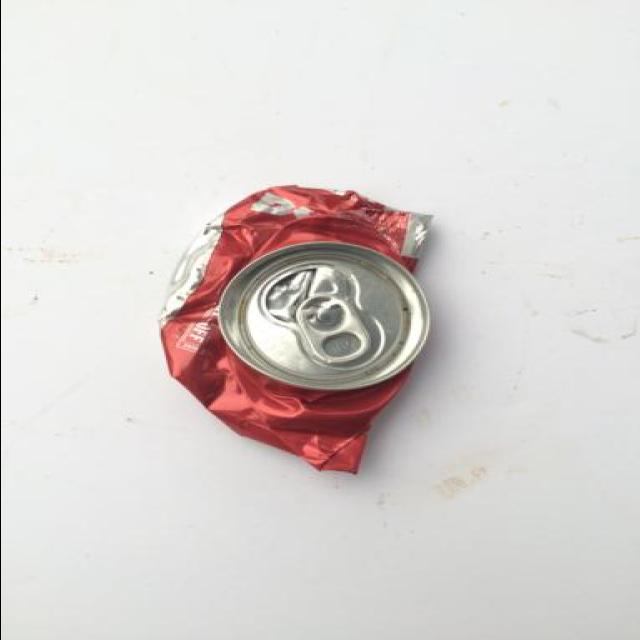Aluminum Can: (121, 145, 454, 526)
